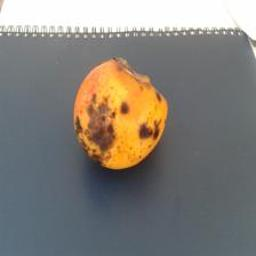Mango Rotten: (58, 46, 176, 174)
